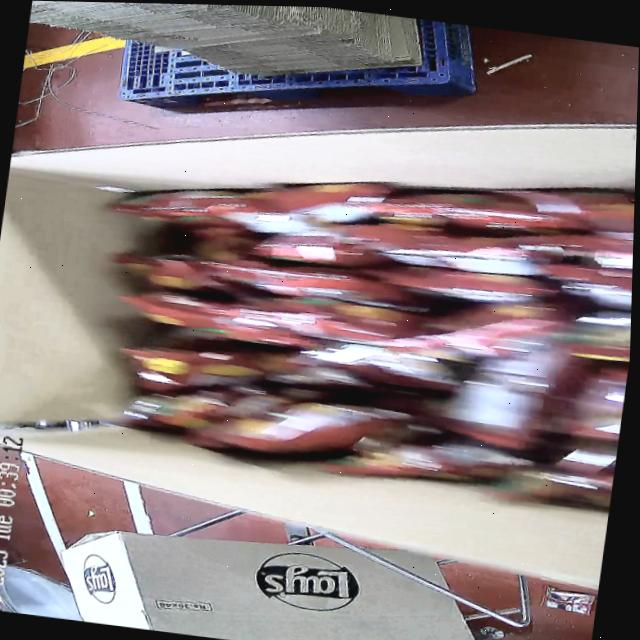MASALA: (70, 123, 636, 511)
